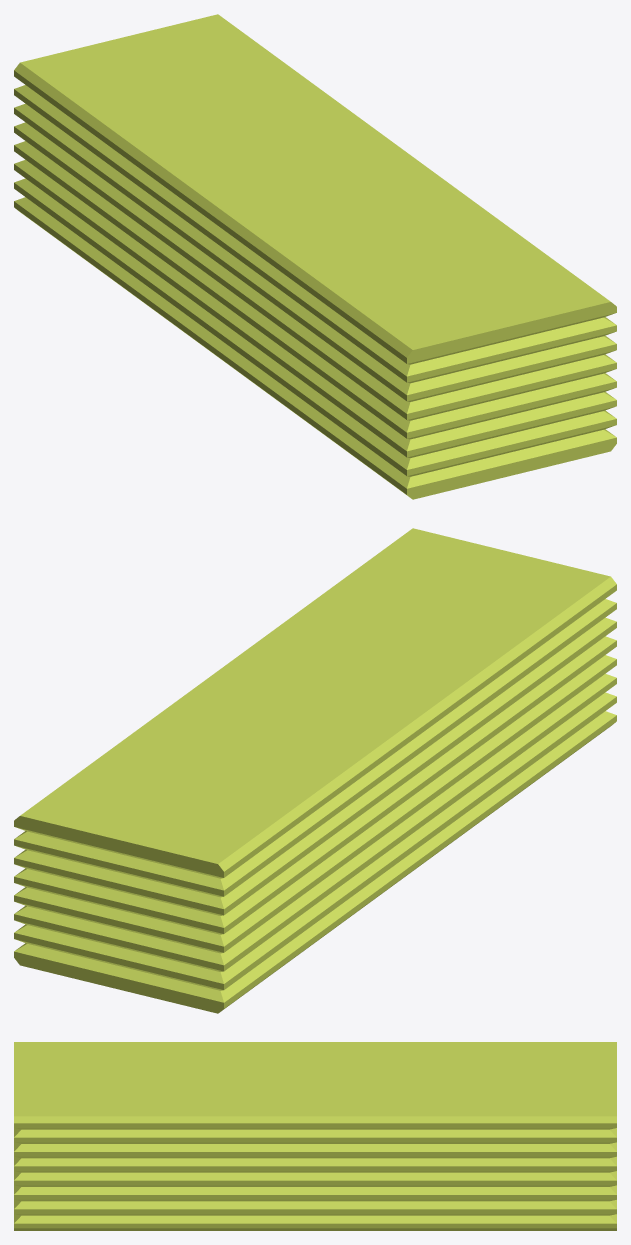
The model's file is SM_Planes.fbx.
3 renders of one model, top to bottom at view 1: azimuth 30°, elevation 25°; view 2: azimuth 150°, elevation 25°; view 3: azimuth 270°, elevation 25°, orthographic. The views are drawn at different scales.
Visible parts, largest first — view 1: Planes; view 2: Planes; view 3: Planes.
Boxes of the visible parts, x1,y1,x2,y2 form: Planes: [14, 14, 616, 499]; Planes: [14, 528, 616, 1013]; Planes: [14, 1042, 616, 1230].
Size of the model in its own units: 35.04 by 23.84 by 114.
